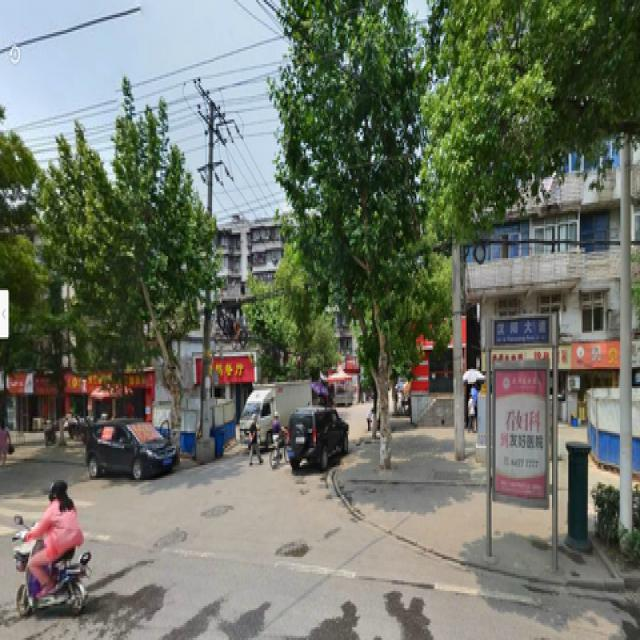meta: (74, 145, 202, 444)
